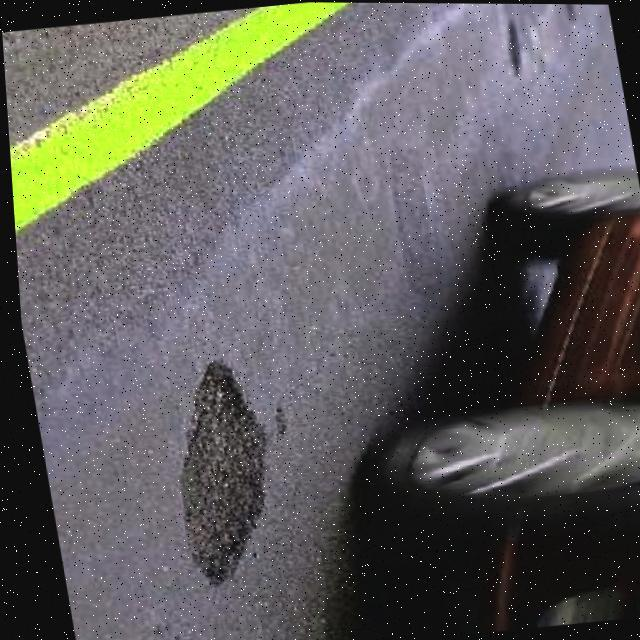pothole: (148, 352, 289, 588), (500, 14, 532, 80), (557, 4, 582, 22)
